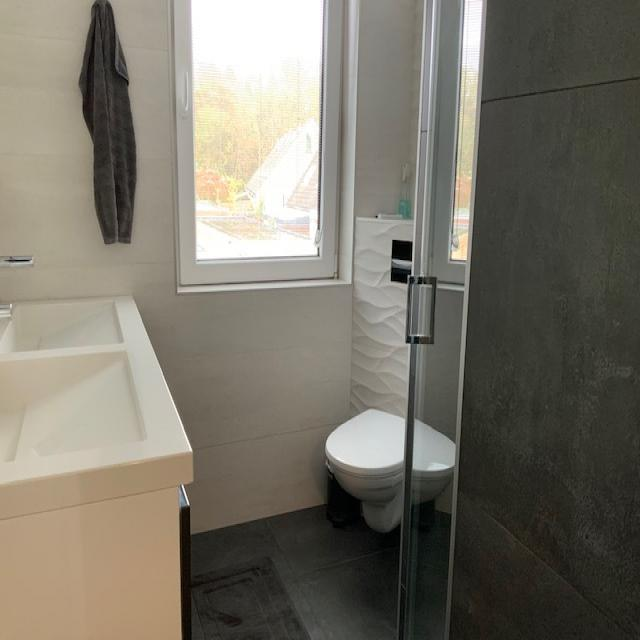douche: (396, 0, 640, 640)
toilet: (322, 238, 418, 534)
wastafel: (0, 250, 195, 522), (0, 479, 192, 640)
